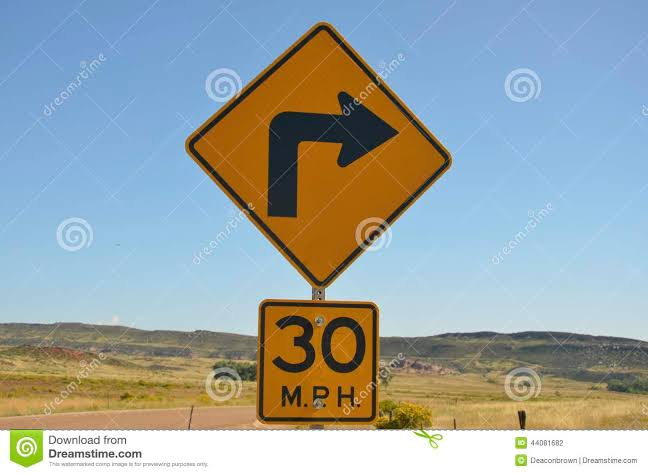right: (163, 17, 471, 287), (262, 14, 453, 220), (323, 22, 453, 203), (243, 60, 421, 178), (311, 82, 418, 271)
